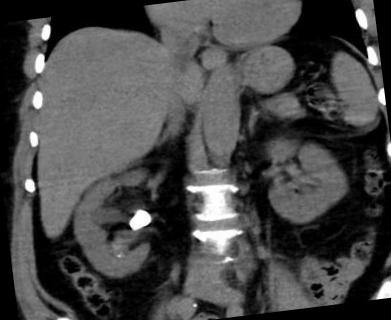Tas_Var: (122, 206, 154, 233), (113, 250, 125, 260)
